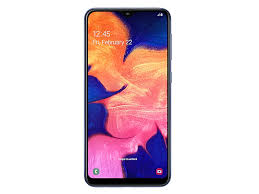samsung: (80, 5, 172, 187)
